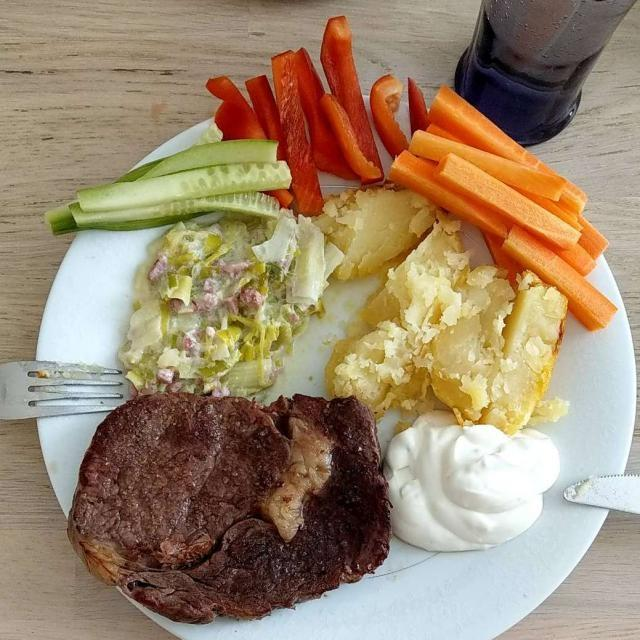bacon: (151, 259, 270, 391)
bell-pepper: (212, 11, 430, 213)
carrot: (391, 88, 618, 330)
cucumber: (49, 146, 289, 229)
leek: (121, 223, 340, 397)
potatoes: (326, 192, 572, 432)
sour-cream: (388, 415, 555, 551)
